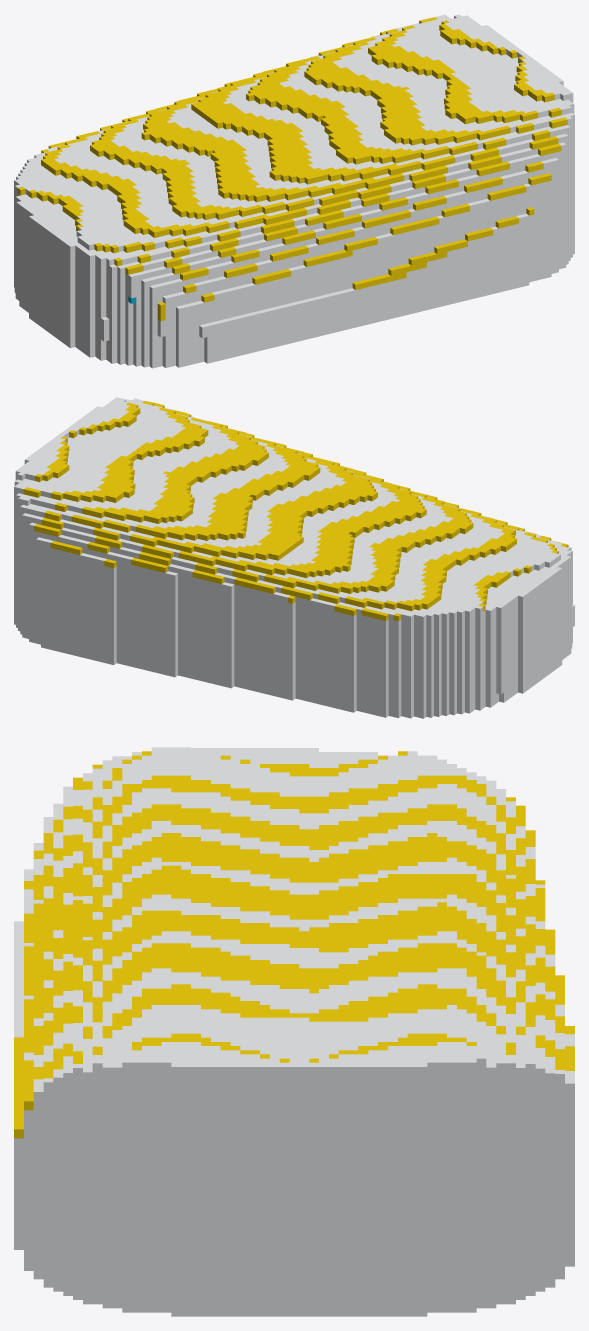
3 views of the same model, one above another, from view 1: azimuth 30°, elevation 25°; view 2: azimuth 150°, elevation 25°; view 3: azimuth 270°, elevation 25° (orthographic). The views are drawn at different scales.
Parts seen in each view (by area): view 1: =>[0:1:1:243], =>[0:1:1:517], =>[0:1:1:386], =>[0:1:1:1384], =>[0:1:1:384], =>[0:1:1:1178], =>[0:1:1:1172], =>[0:1:1:390], =>[0:1:1:1385], =>[0:1:1:1231], =>[0:1:1:252], =>[0:1:1:434] (+36 smaller); view 2: =>[0:1:1:375], =>[0:1:1:52], =>[0:1:1:994], =>[0:1:1:2], =>[0:1:1:1160], =>[0:1:1:517], =>[0:1:1:668], =>[0:1:1:1385], =>[0:1:1:1178], =>[0:1:1:1172], =>[0:1:1:800], =>[0:1:1:1449] (+32 smaller); view 3: =>[0:1:1:183], =>[0:1:1:61], =>[0:1:1:60], =>[0:1:1:1166], =>[0:1:1:1167], =>[0:1:1:1572], =>[0:1:1:1571], =>[0:1:1:1172], =>[0:1:1:1415], =>[0:1:1:678], =>[0:1:1:1433], =>[0:1:1:677] (+54 smaller).
Part boxes in pixels (left/top/right/bottom): =>[0:1:1:243]: left=207, top=248, right=529, bottom=363; =>[0:1:1:517]: left=29, top=217, right=70, bottom=347; =>[0:1:1:386]: left=199, top=254, right=403, bottom=325; =>[0:1:1:1384]: left=75, top=245, right=89, bottom=357; =>[0:1:1:384]: left=529, top=218, right=551, bottom=282; =>[0:1:1:1178]: left=418, top=20, right=530, bottom=99; =>[0:1:1:1172]: left=410, top=26, right=534, bottom=112; =>[0:1:1:390]: left=214, top=249, right=403, bottom=299; =>[0:1:1:1385]: left=19, top=204, right=33, bottom=312; =>[0:1:1:1231]: left=40, top=171, right=108, bottom=206; =>[0:1:1:252]: left=556, top=150, right=566, bottom=269; =>[0:1:1:434]: left=549, top=160, right=558, bottom=273; =>[0:1:1:375]: left=41, top=550, right=113, bottom=664; =>[0:1:1:52]: left=116, top=561, right=175, bottom=677; =>[0:1:1:994]: left=295, top=602, right=353, bottom=712; =>[0:1:1:2]: left=234, top=589, right=292, bottom=700; =>[0:1:1:1160]: left=178, top=573, right=231, bottom=688; =>[0:1:1:517]: left=523, top=568, right=562, bottom=693; =>[0:1:1:668]: left=356, top=614, right=385, bottom=717; =>[0:1:1:1385]: left=504, top=596, right=517, bottom=702; =>[0:1:1:1178]: left=32, top=418, right=143, bottom=491; =>[0:1:1:1172]: left=49, top=409, right=167, bottom=491; =>[0:1:1:800]: left=388, top=619, right=398, bottom=717; =>[0:1:1:1449]: left=401, top=614, right=410, bottom=718; =>[0:1:1:183]: left=171, top=1067, right=427, bottom=1316; =>[0:1:1:61]: left=427, top=1062, right=476, bottom=1312; =>[0:1:1:60]: left=122, top=1062, right=171, bottom=1312; =>[0:1:1:1166]: left=102, top=1067, right=122, bottom=1308; =>[0:1:1:1167]: left=476, top=1067, right=496, bottom=1308; =>[0:1:1:1572]: left=496, top=1063, right=515, bottom=1304; =>[0:1:1:1571]: left=83, top=1072, right=102, bottom=1304; =>[0:1:1:1172]: left=112, top=1030, right=496, bottom=1038; =>[0:1:1:1415]: left=525, top=1064, right=535, bottom=1295; =>[0:1:1:678]: left=535, top=1068, right=545, bottom=1291; =>[0:1:1:1433]: left=545, top=1073, right=555, bottom=1287; =>[0:1:1:677]: left=53, top=1077, right=63, bottom=1291.
Bounding box in the file's own units: 39.29 × 11.46 × 23.33.
